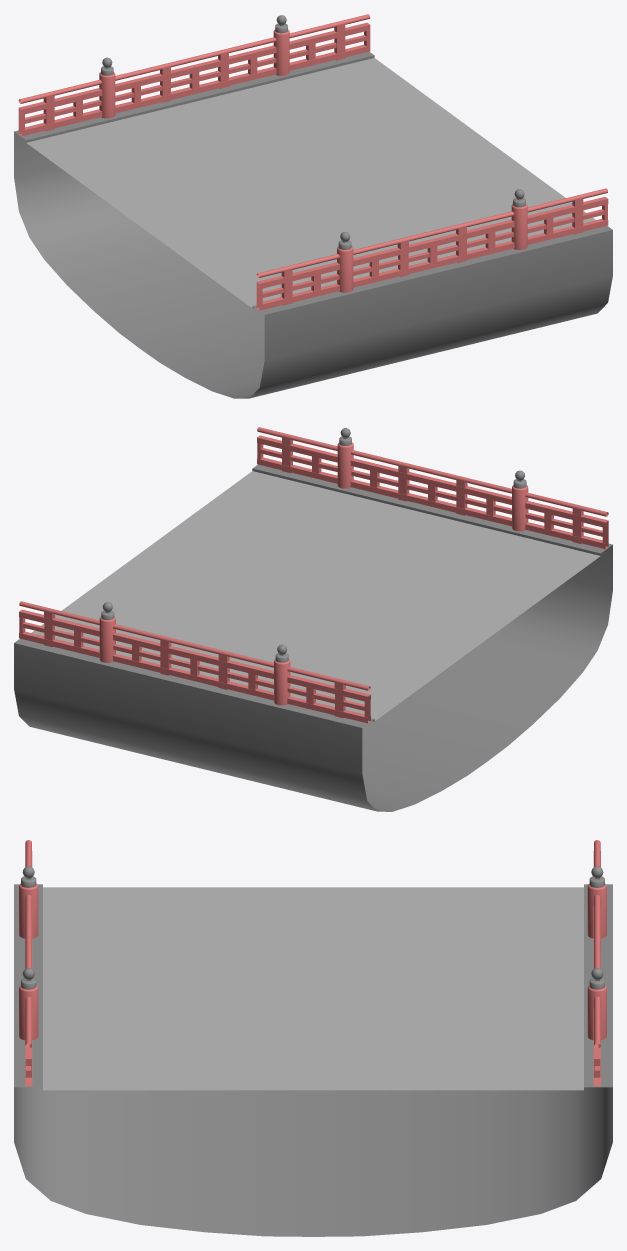
File: Road Spline Piece2.fbx
The picture shows the model from 3 angles, top to bottom: view 1: azimuth 30°, elevation 25°; view 2: azimuth 150°, elevation 25°; view 3: azimuth 270°, elevation 25°; orthographic projection. The views are drawn at different scales.
Parts seen in each view (by area): view 1: Object041; view 2: Object041; view 3: Object041.
Boxes of the visible parts, x1,y1,x2,y2 form: Object041: [14, 14, 612, 398]; Object041: [14, 427, 612, 811]; Object041: [14, 840, 612, 1236].
Bounding box in the file's own units: 452 × 225 × 562.
